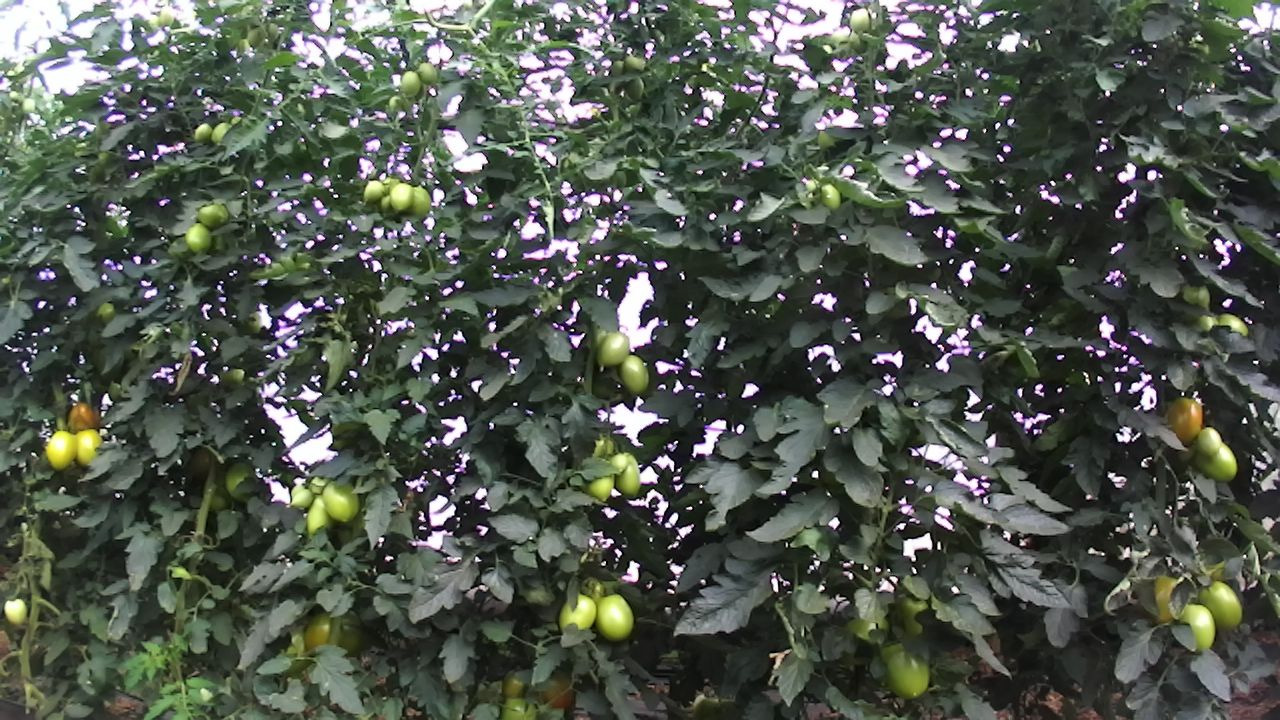tomato: (881, 645, 933, 704), (1174, 599, 1221, 657), (1190, 435, 1241, 485), (1196, 578, 1243, 632), (554, 590, 600, 638), (592, 592, 635, 643), (1166, 394, 1204, 446), (610, 449, 643, 500), (321, 481, 360, 523), (43, 429, 79, 473), (63, 399, 106, 435), (594, 330, 632, 368), (73, 427, 105, 470), (619, 352, 650, 396), (580, 472, 620, 505), (182, 220, 215, 256), (195, 201, 230, 230), (1194, 423, 1222, 459), (816, 180, 843, 213), (387, 182, 414, 213), (408, 184, 433, 217), (2, 596, 28, 627), (286, 486, 315, 509), (361, 177, 385, 204), (400, 68, 421, 98), (417, 59, 439, 85), (192, 120, 214, 143), (608, 450, 629, 473)
